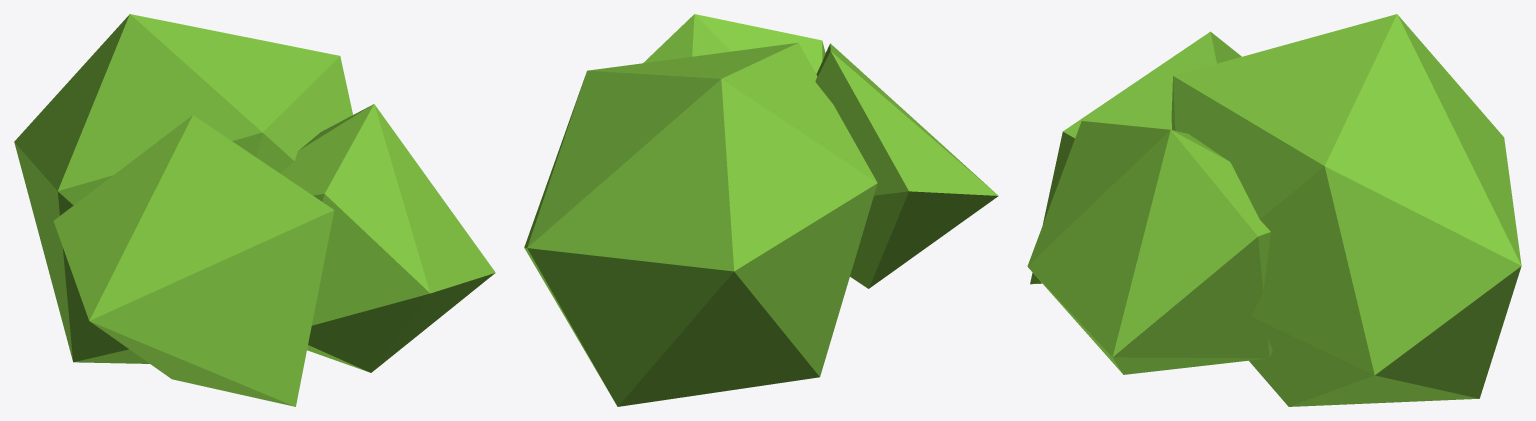
File: trava1.glb
The picture shows the model from 3 angles, left to right: view 1: azimuth 30°, elevation 25°; view 2: azimuth 150°, elevation 25°; view 3: azimuth 270°, elevation 25°; orthographic projection. The views are drawn at different scales.
Visible parts, largest first — view 1: Декор.002; view 2: Декор.002; view 3: Декор.002.
Boxes of the visible parts, <box> form: Декор.002: <box>14,14,495,406</box>; Декор.002: <box>524,14,998,406</box>; Декор.002: <box>1027,14,1521,406</box>.
Bounding box in the file's own units: 10.24 × 8.26 × 10.55.
